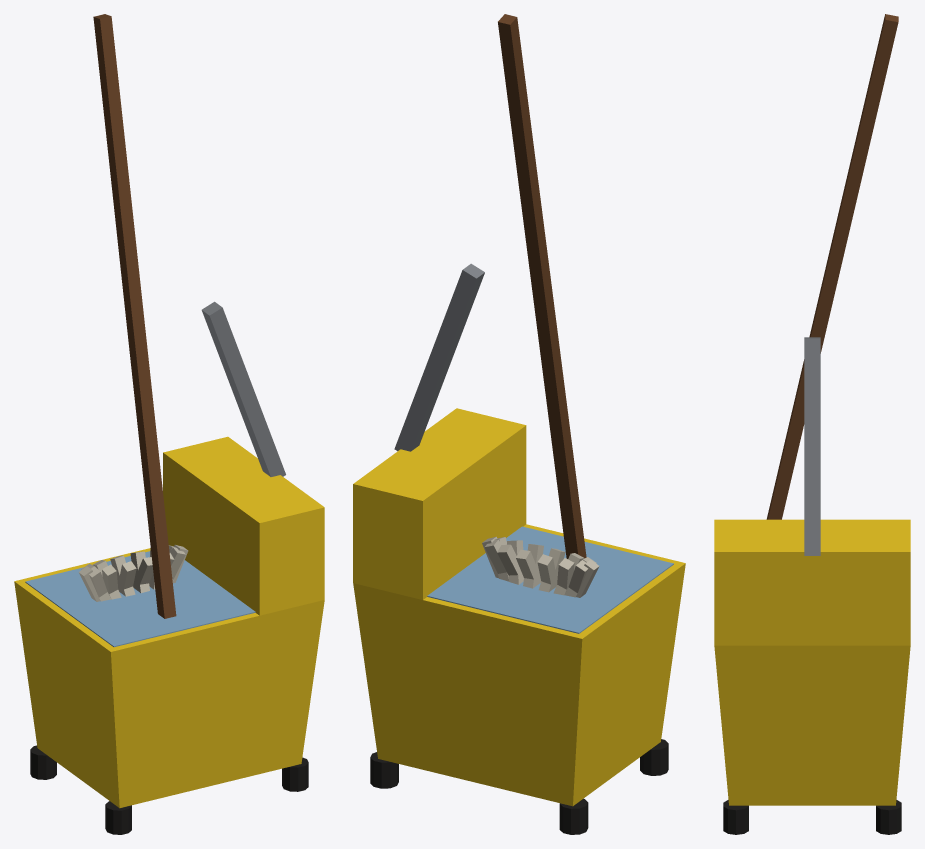
File: SM_80s_MopBucket.glb
3 views of the same model, side by side, from view 1: azimuth 30°, elevation 25°; view 2: azimuth 150°, elevation 25°; view 3: azimuth 270°, elevation 25° (orthographic). The views are drawn at different scales.
Visible parts, largest first — view 1: SM_80s_MopBucket; view 2: SM_80s_MopBucket; view 3: SM_80s_MopBucket.
Part boxes in pixels (box(x1,y1,x2,y2)): SM_80s_MopBucket: box(14, 14, 324, 834); SM_80s_MopBucket: box(353, 14, 685, 834); SM_80s_MopBucket: box(714, 14, 910, 834).
Bounding box in the file's own units: 0.6237 × 2.02 × 0.4752.
